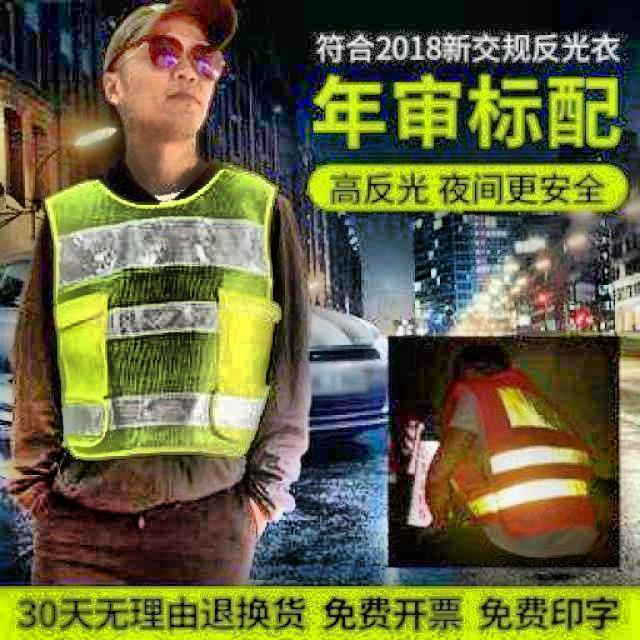safety_jacket: (50, 175, 273, 456), (468, 382, 604, 544)
